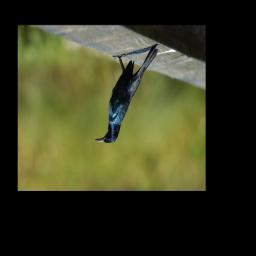Crow: (95, 44, 160, 145)
